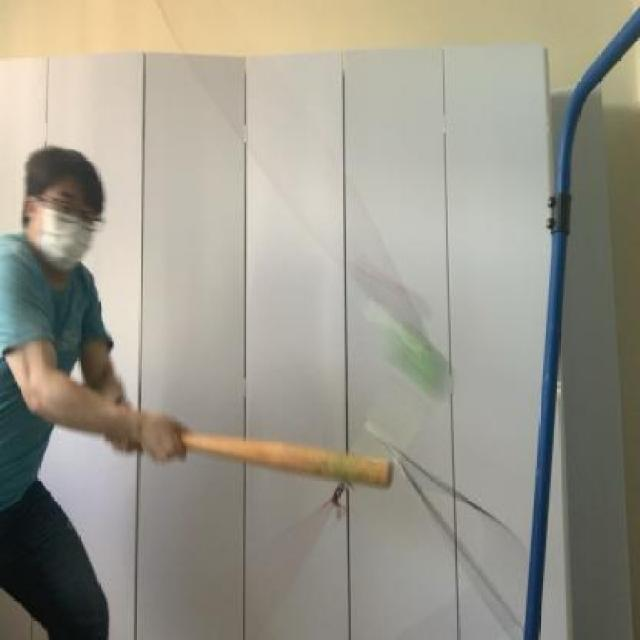baseball: (373, 314, 450, 404)
